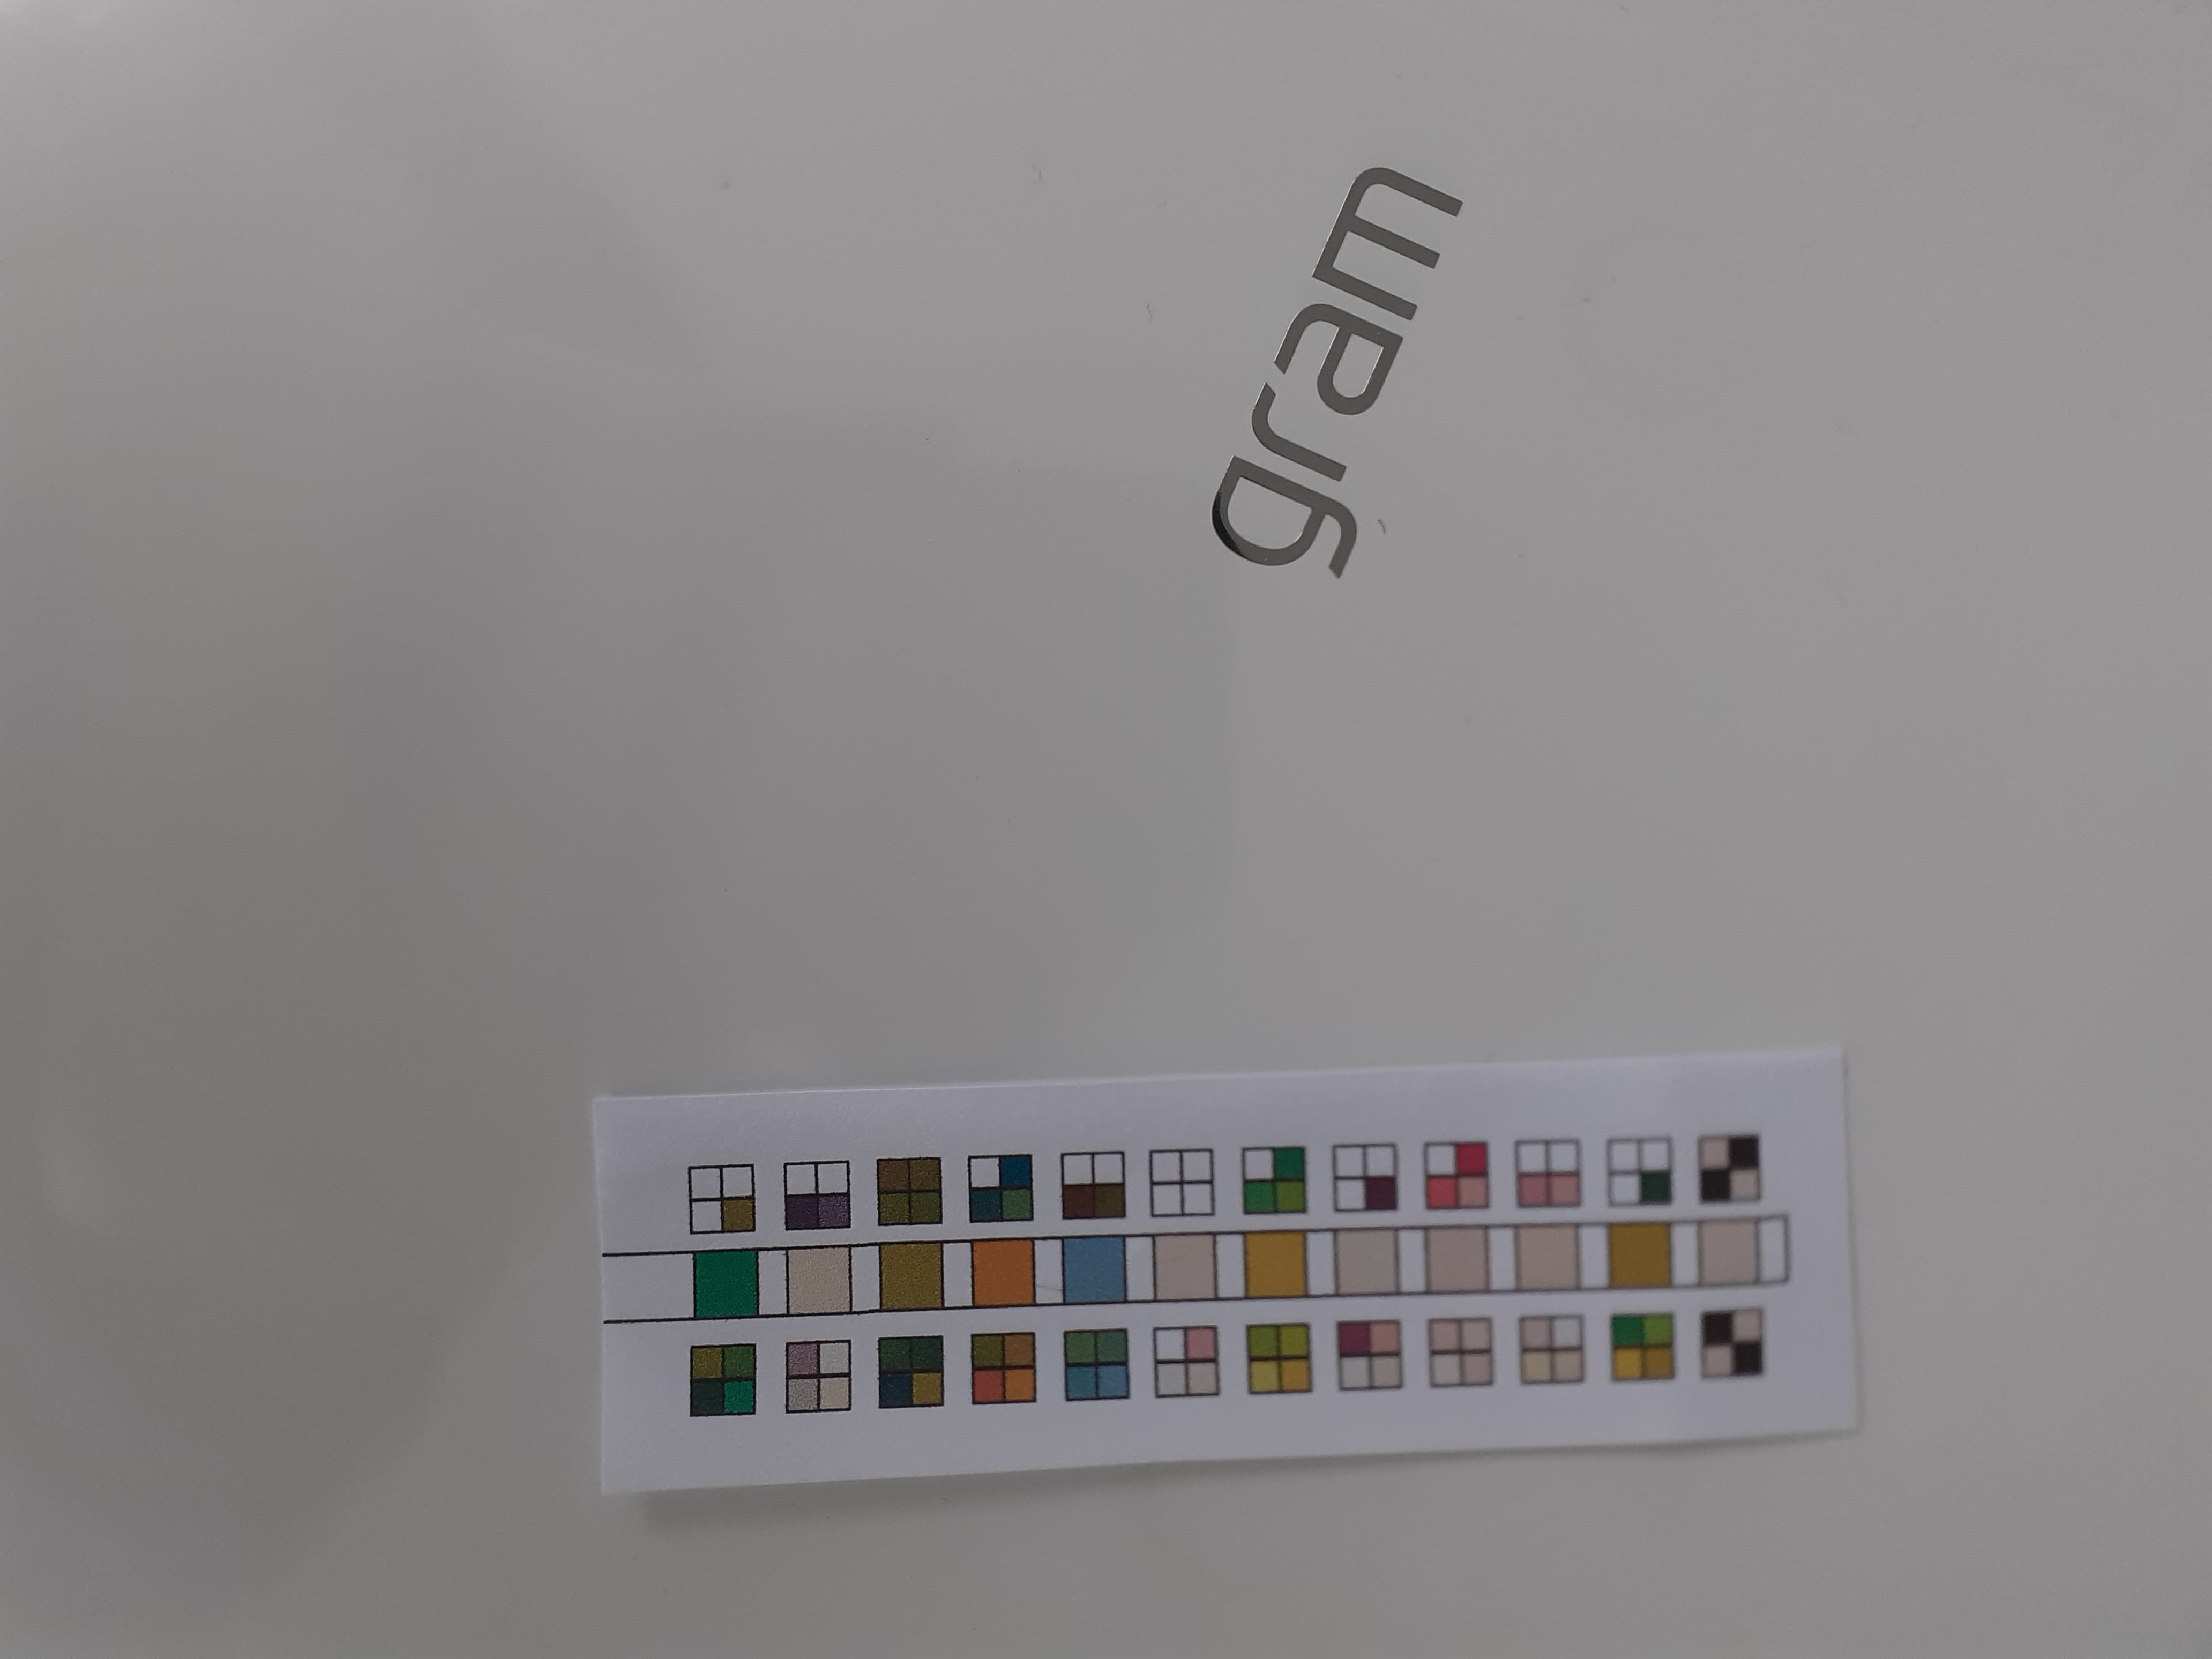tester: (590, 1087, 1853, 1439)
